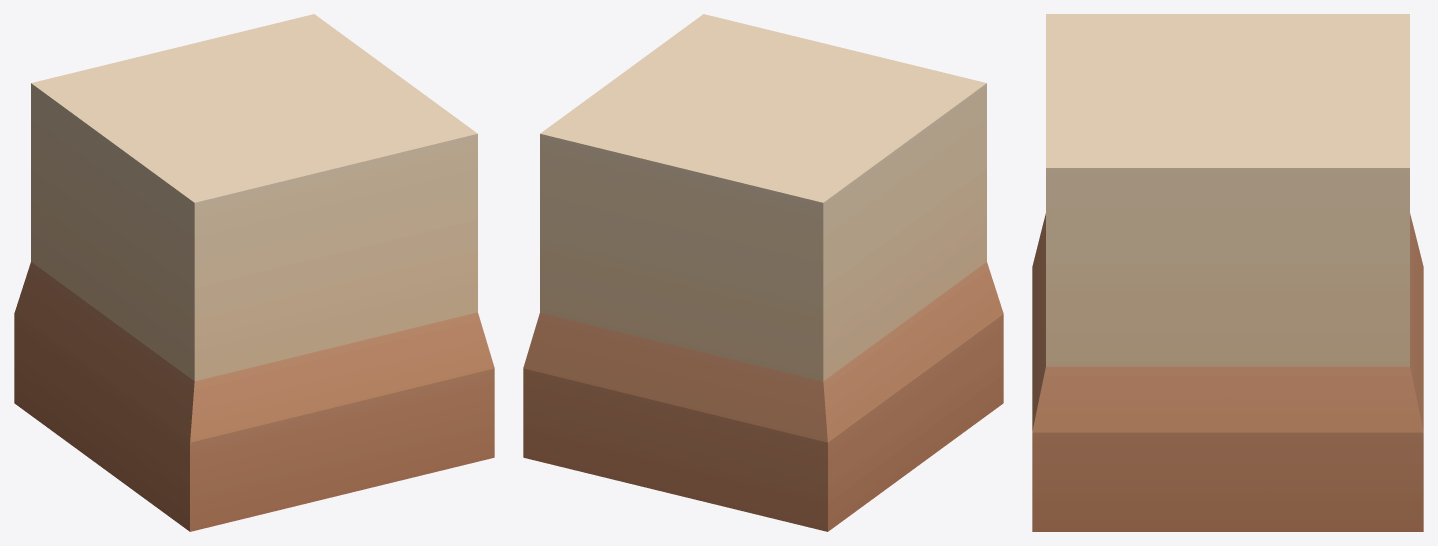
File: tower-square-base.glb
3 views of the same model, side by side, from view 1: azimuth 30°, elevation 25°; view 2: azimuth 150°, elevation 25°; view 3: azimuth 270°, elevation 25° (orthographic). The views are drawn at different scales.
Parts seen in each view (by area): view 1: tower-square-base; view 2: tower-square-base; view 3: tower-square-base.
Boxes of the visible parts, box(x1,y1,x2,y2) form: tower-square-base: box(14, 14, 494, 531); tower-square-base: box(523, 14, 1003, 531); tower-square-base: box(1032, 14, 1423, 531).
Size of the model in its own units: 1 by 1.01 by 1.
Materials: 1 (1 with a texture image).
